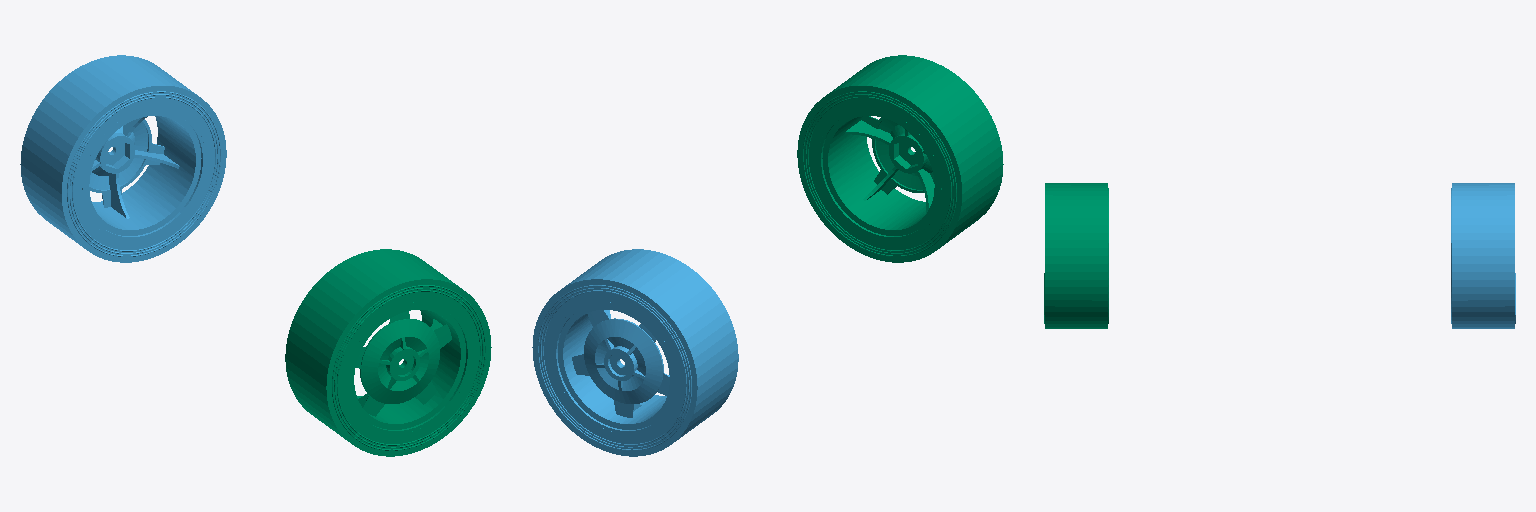
The robot description file, URDF, robot "my_robot":
<?xml version="1.0"?>
<robot name="my_robot">

  <!-- ================= BASE ================= -->
  <link name="base_link">
    <visual>
      <origin xyz="0 0 0.055" rpy="1.57 0 0"/>
      <geometry>
        <mesh filename="package://my_robot/meshes/base.stl" scale="0.001 0.001 0.001"/>
      </geometry>
    </visual>

    <collision>
      <!-- lift half height -->
      <origin xyz="0.025 -0.008 0.05" rpy="0 0 0"/>
      <geometry>
        <box size="0.20 0.184 0.1"/>
      </geometry>
    </collision>
  </link>


  <!-- ================= LEFT WHEEL ================= -->
  <link name="left_wheel">
    <visual>
      <origin rpy="-1.57 0 0"/>
      <geometry>
        <mesh filename="package://my_robot/meshes/wheel.stl" scale="0.001 0.001 0.001"/>
      </geometry>
    </visual>

    <collision>
      <!-- SAME rotation as visual -->
      <origin rpy="-1.57 0 0"/>
      <geometry>
        <cylinder radius="0.041" length="0.035"/>
      </geometry>
    </collision>
  </link>


  <!-- ================= RIGHT WHEEL ================= -->
  <link name="right_wheel">
    <visual>
      <origin rpy="1.57 0 0"/>
      <geometry>
        <mesh filename="package://my_robot/meshes/wheel.stl" scale="0.001 0.001 0.001"/>
      </geometry>
    </visual>

    <collision>
      <!-- SAME rotation as visual -->
      <origin rpy="1.57 0 0"/>
      <geometry>
        <cylinder radius="0.041" length="0.035"/>
      </geometry>
    </collision>
  </link>


  <!-- ================= LIDAR ================= -->
  <link name="laser">
    <visual>
      <origin xyz="0.057 -0.02 -0.031" rpy="1.57 0 0"/>
      <geometry>
        <mesh filename="package://my_robot/meshes/lidar.stl" scale="0.001 0.001 0.001"/>
      </geometry>
    </visual>

    <collision>
      <!-- MATCH visual -->
      <origin xyz="-0.01 -0.0085 0" rpy="0 0 0"/>
      <geometry>
        <cylinder radius="0.04" length="0.05"/>
      </geometry>
    </collision>
  </link>


  <!-- ================= JOINTS ================= -->

  <joint name="left_wheel_joint" type="continuous">
    <parent link="base_link"/>
    <child link="left_wheel"/>
    <origin xyz="-0.03 0.105 0.04"/>
    <axis xyz="0 1 0"/>
  </joint>

  <joint name="right_wheel_joint" type="continuous">
    <parent link="base_link"/>
    <child link="right_wheel"/>
    <origin xyz="-0.03 -0.12 0.04"/>
    <axis xyz="0 1 0"/>
  </joint>

  <joint name="laser_joint" type="fixed">
    <parent link="base_link"/>
    <child link="laser"/>
    <origin xyz="0.057 -0.02 0.15"/>
  </joint>

  <link name="base_footprint"/>
  <joint name="base_footprint_joint" type="fixed">
    <parent link="base_link"/>
    <child link="base_footprint"/>
    <origin xyz="0 0 0"/>
  </joint>
</robot>

--- What the picture shows (computed from the rendered views, not written in the file) ---
The picture shows the robot from 3 angles, left to right: view 1: azimuth 30°, elevation 25°; view 2: azimuth 150°, elevation 25°; view 3: azimuth 270°, elevation 25°; orthographic projection.
Robot: my_robot — 5 links, 4 joints (2 continuous, 2 fixed); root link base_link; default pose: all joints at 0.
Links seen in each view (by area): view 1: right_wheel, left_wheel; view 2: left_wheel, right_wheel; view 3: left_wheel, right_wheel.
Link boxes in pixels (<box>): right_wheel: <box>285,249,491,456</box>; left_wheel: <box>20,55,226,262</box>; left_wheel: <box>532,249,738,456</box>; right_wheel: <box>797,55,1003,262</box>; left_wheel: <box>1451,183,1515,328</box>; right_wheel: <box>1044,183,1108,328</box>.
Bounding box of the posed robot: 0.081 × 0.2605 × 0.0809 m (x, y, z).
2 mesh visuals loaded from 3 distinct referenced files (1 binary STL); not drawn: 2 (reference not matched to a file when rendering).
